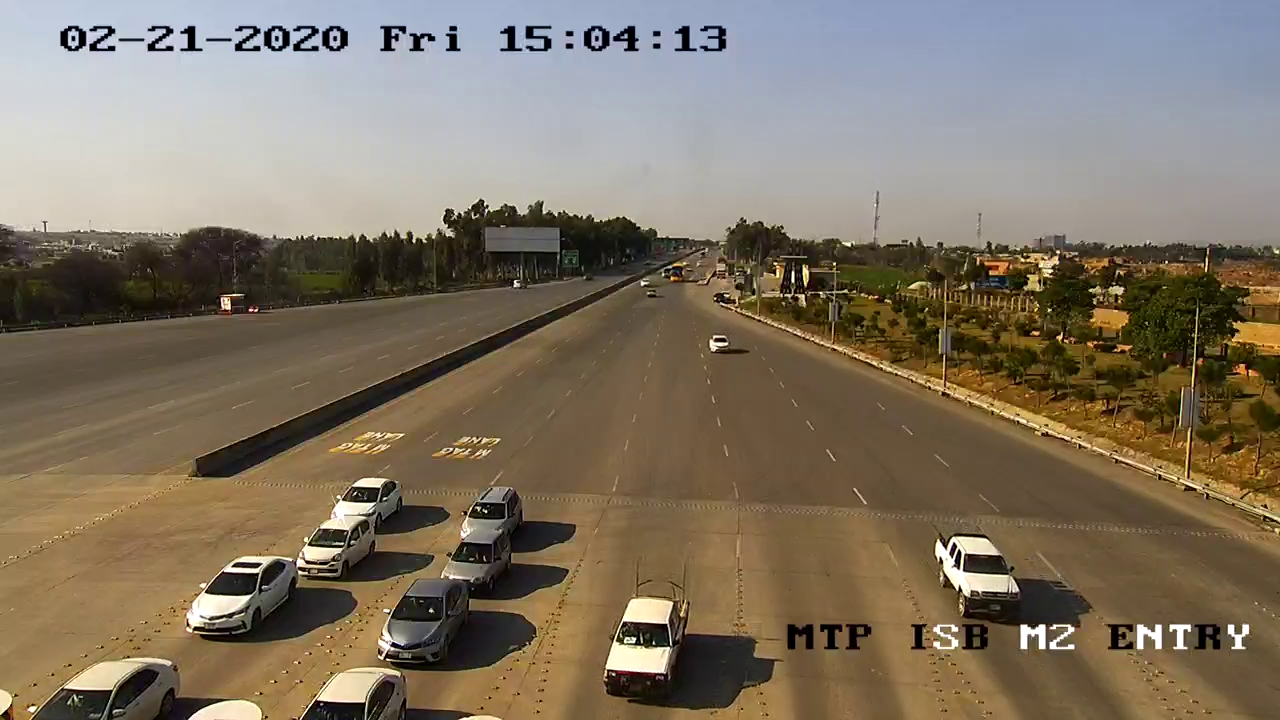f1: (595, 558, 699, 706), (175, 546, 308, 643), (926, 518, 1042, 624), (363, 569, 479, 672), (282, 506, 379, 586)
